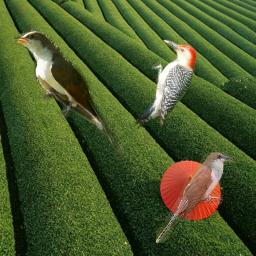Cuckoo: (14, 28, 124, 155), (156, 152, 234, 243)
Woodpecker: (129, 36, 196, 134)
